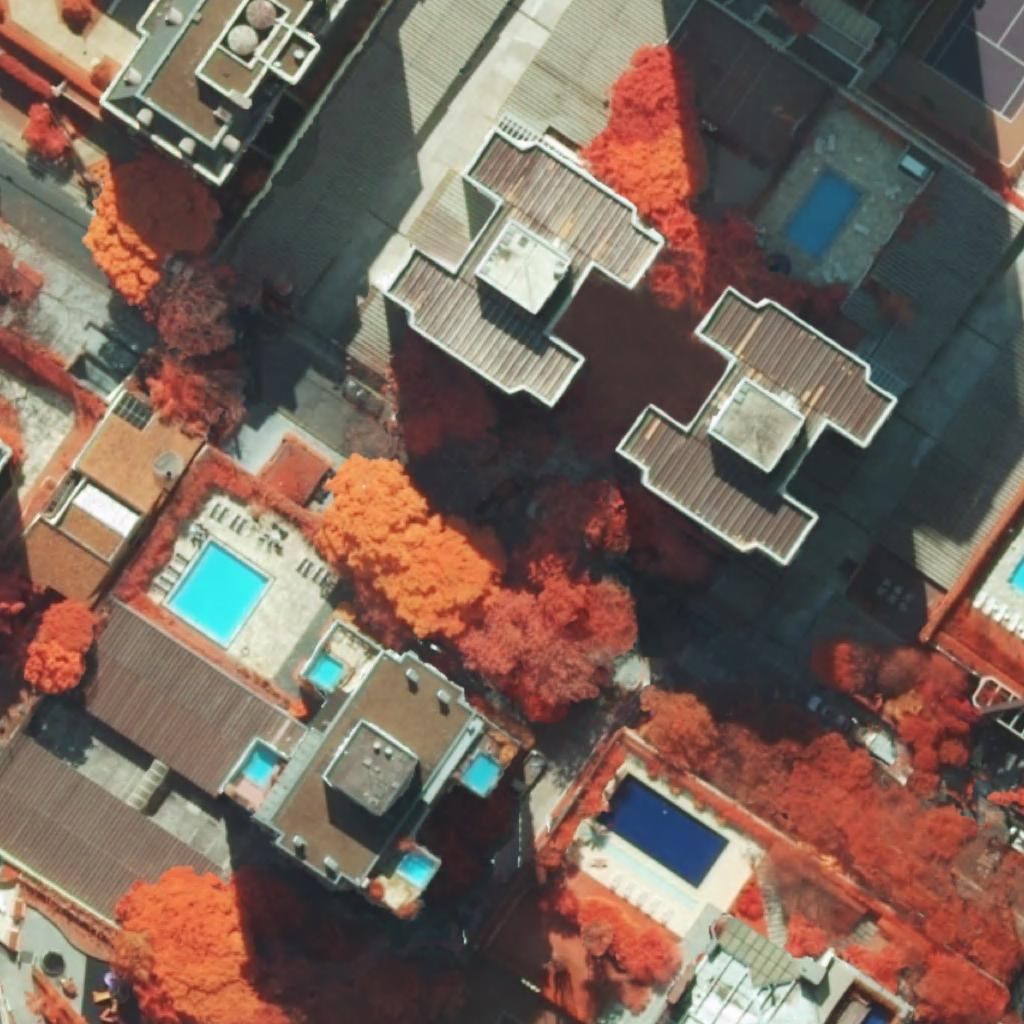pool: (594, 772, 730, 889), (167, 539, 270, 643), (782, 170, 863, 259), (462, 753, 501, 794), (241, 744, 280, 784), (307, 654, 345, 688), (398, 853, 435, 885), (861, 1001, 895, 1024)
